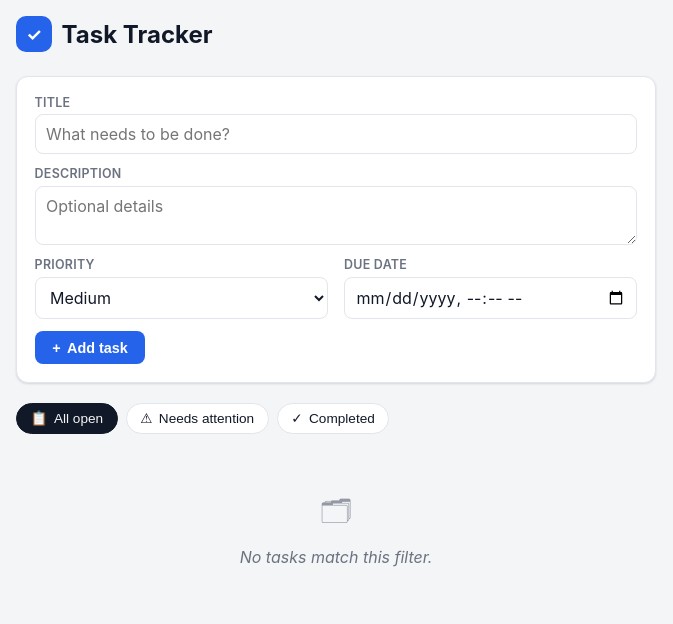
it: App › creates a task through the form and refreshes the list
Type "Brand new task" into the field labelled "Title". click: coordinates (336, 134)
box: [35, 114, 637, 154]
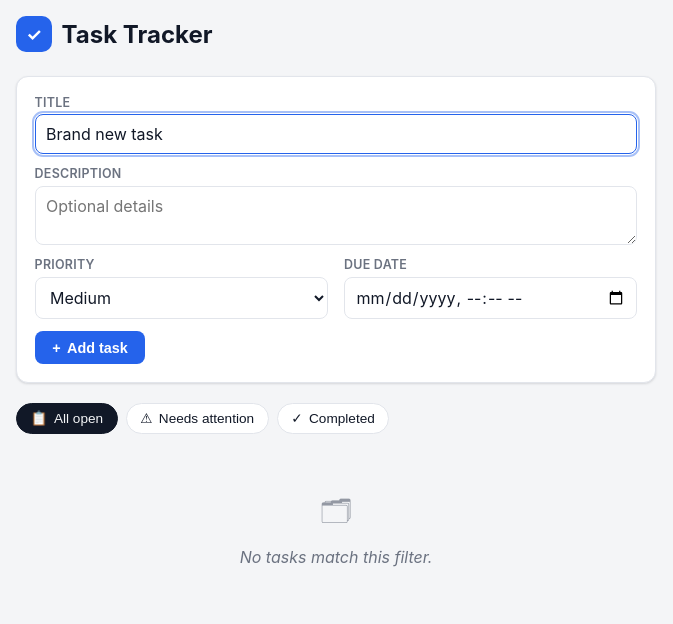
Click the button "+ Add task". click: coordinates (90, 348)
box: [35, 331, 145, 364]
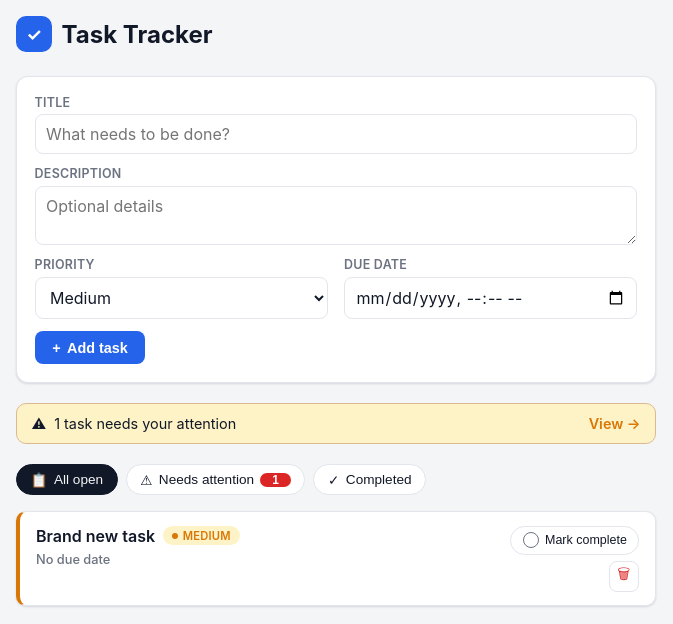
expect the text "Brand new task" is shown: met, box [36, 526, 155, 546]
